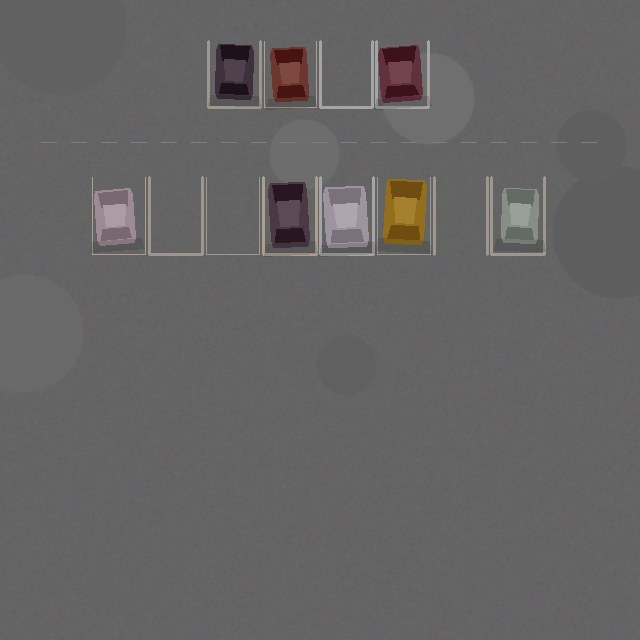space-empty: (149, 177, 202, 254), (206, 177, 259, 254), (434, 177, 487, 254), (320, 41, 372, 107)
space-occupied: (92, 177, 145, 254), (263, 177, 316, 254), (320, 177, 373, 254), (377, 177, 430, 254), (491, 177, 544, 254), (208, 41, 260, 107), (264, 41, 316, 107), (376, 41, 428, 107)
